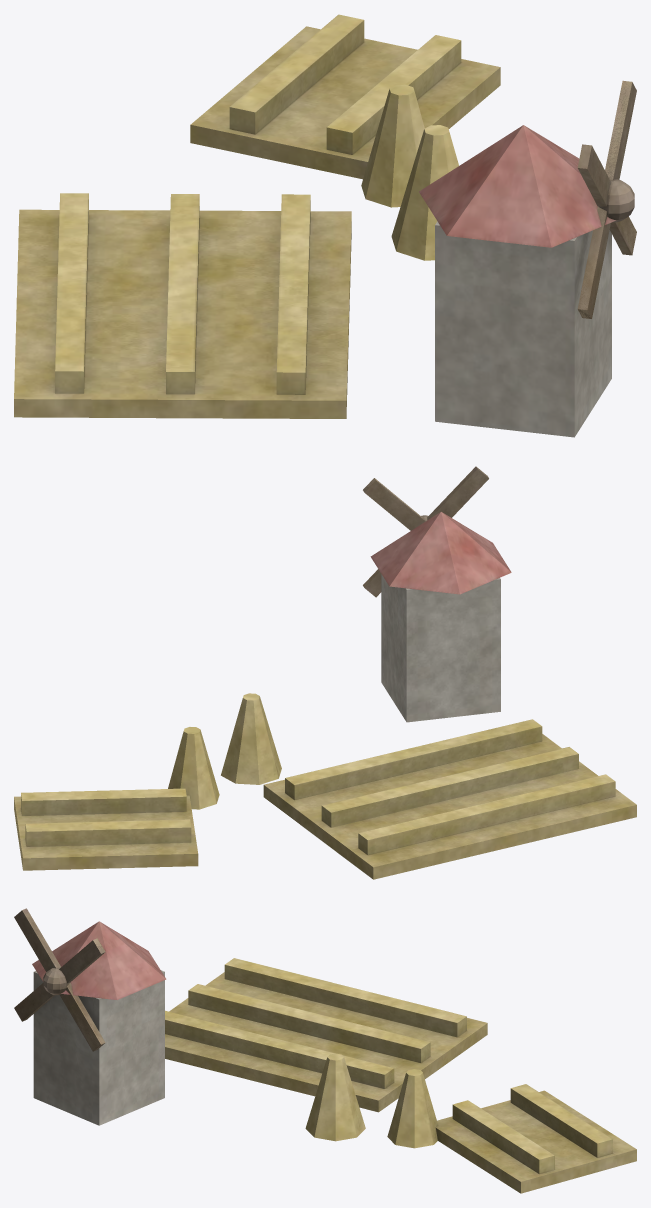
The model's file is res_food_3.glb.
3 views of the same model, one above another, from view 1: azimuth 30°, elevation 25°; view 2: azimuth 150°, elevation 25°; view 3: azimuth 270°, elevation 25° (orthographic). The views are drawn at different scales.
Parts seen in each view (by area): view 1: dilek; view 2: dilek; view 3: dilek.
Boxes of the visible parts, bbox=[...] form: dilek: bbox=[14, 14, 636, 437]; dilek: bbox=[14, 466, 636, 879]; dilek: bbox=[14, 908, 636, 1193].
Size of the model in its own units: 1.13 by 0.4526 by 1.34.
Materials: 1 (1 with a texture image).
